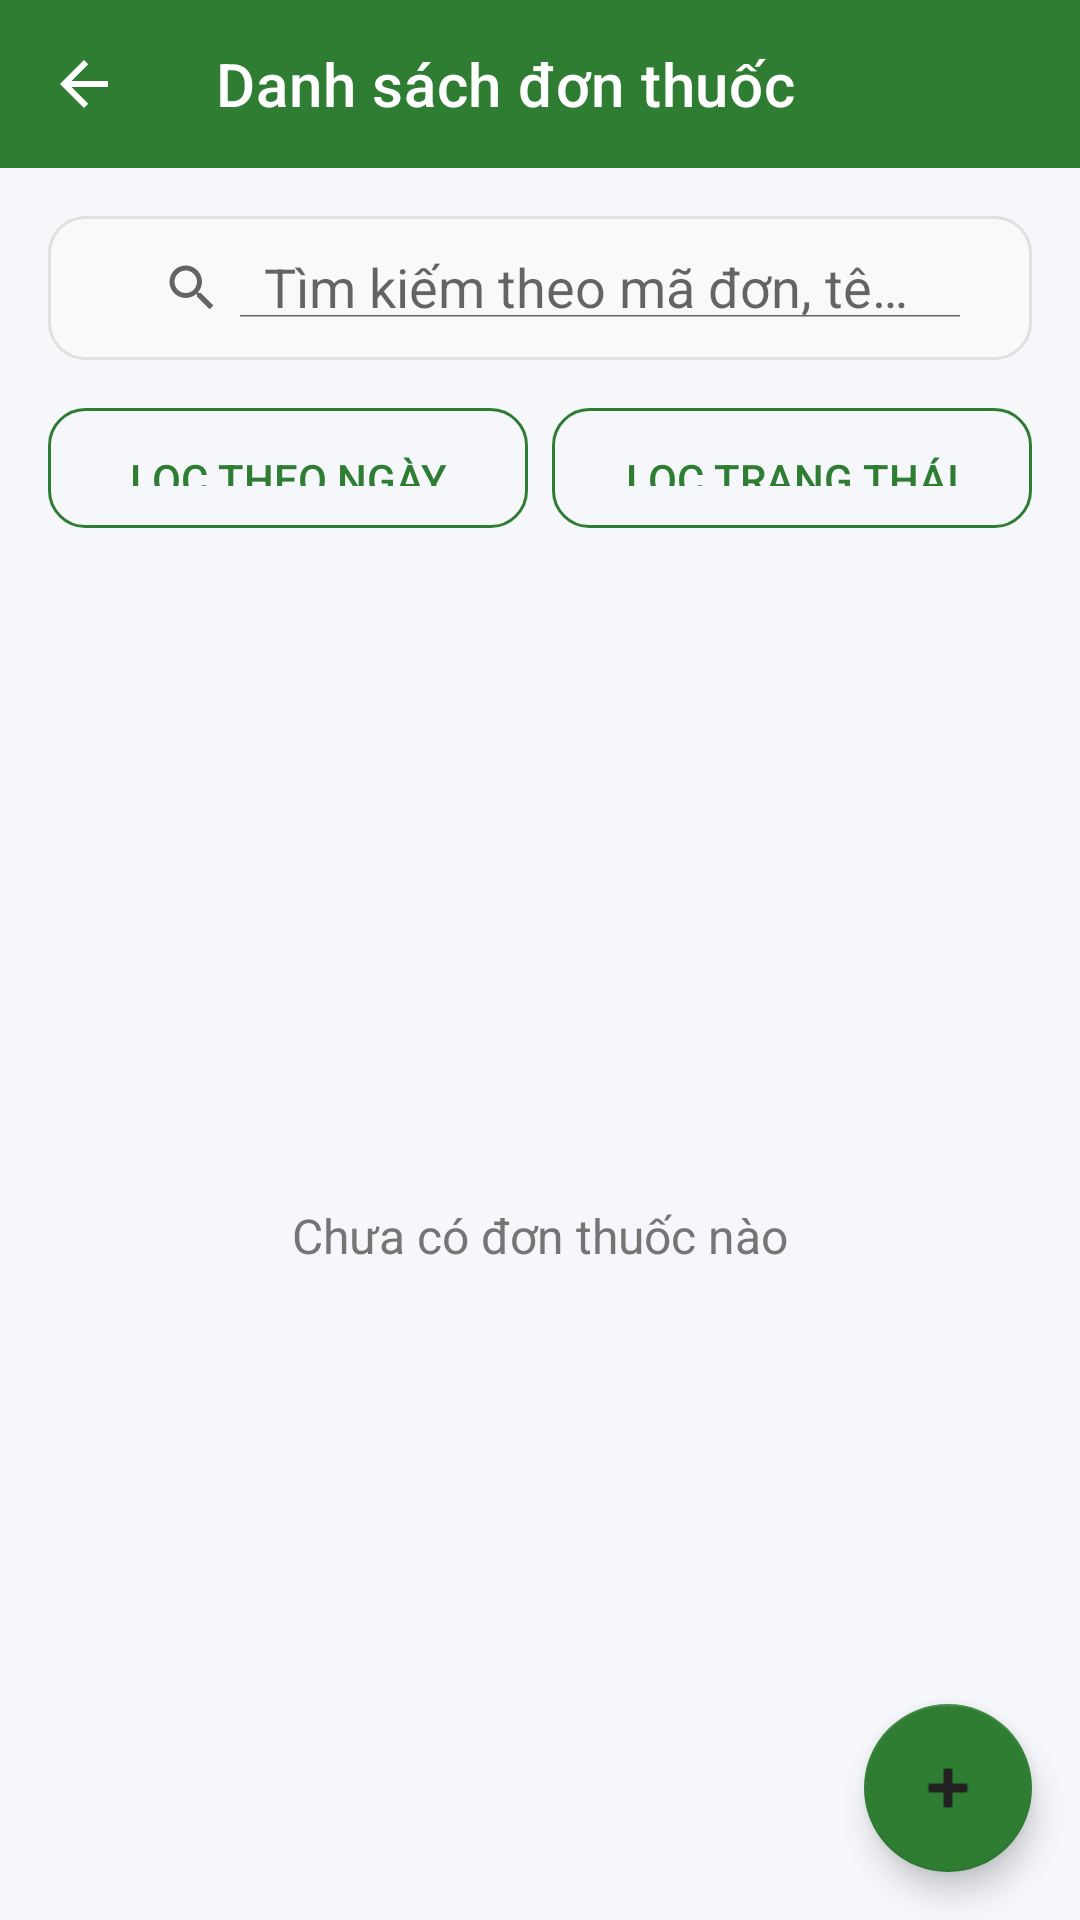

Named icons in this screenshot (1080px×1920px) and their centers, (x=x, y=y):
Thêm đơn thuốc: (x=948, y=1788)
